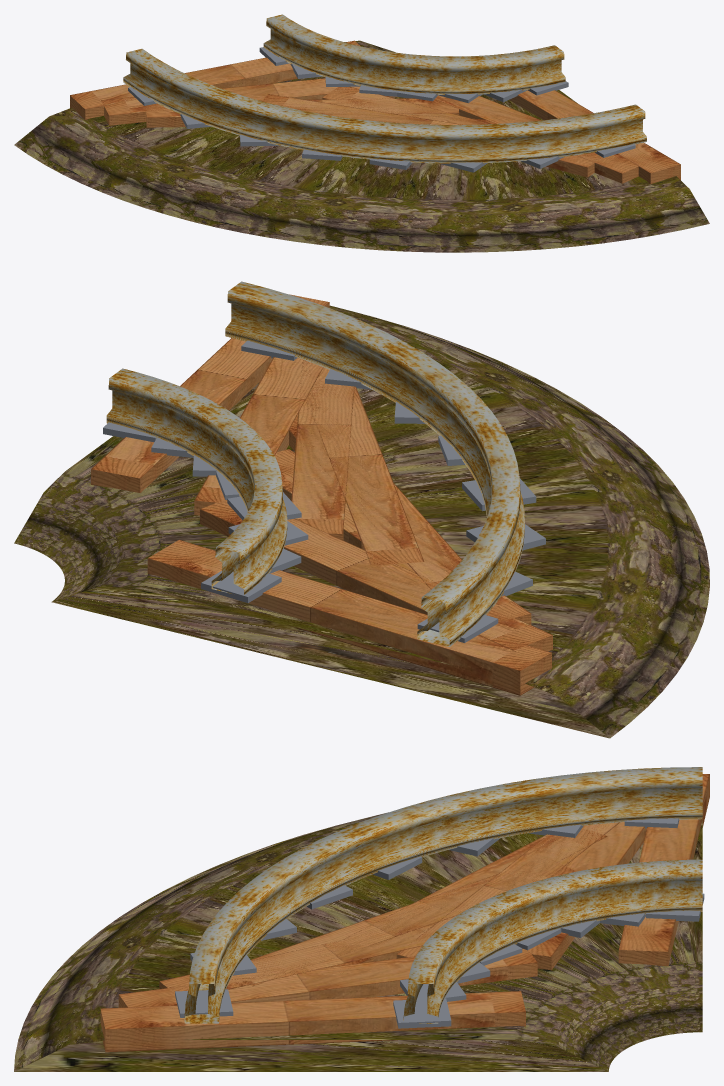
Rendered from track_curve.glb.
3 renders of one model, top to bottom at view 1: azimuth 30°, elevation 25°; view 2: azimuth 150°, elevation 25°; view 3: azimuth 270°, elevation 25°, orthographic. The views are drawn at different scales.
Visible parts, largest first — view 1: RootNode; view 2: RootNode; view 3: RootNode.
Part boxes in pixels (bbox=[...]): RootNode: bbox=[14, 14, 709, 252]; RootNode: bbox=[14, 281, 709, 738]; RootNode: bbox=[14, 767, 709, 1071].
Bounding box in the file's own units: 0.8893 × 0.124 × 0.8893.
4 materials, 3 textured.
